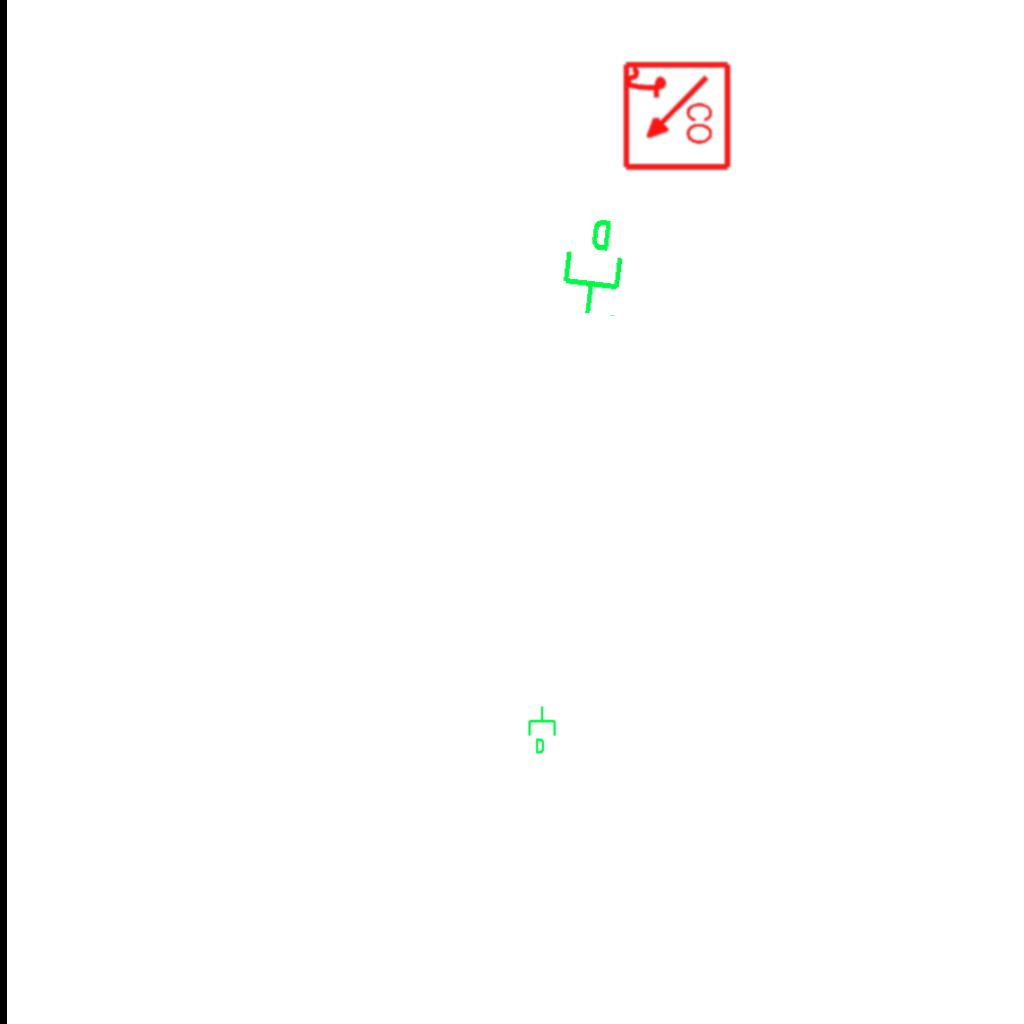Datenanschluss_einfach: (551, 212, 632, 320), (526, 705, 560, 755)
ROA_Rauchmelder_optisch_mit_Signalgeber_(Sockelsirene): (619, 60, 732, 173)
